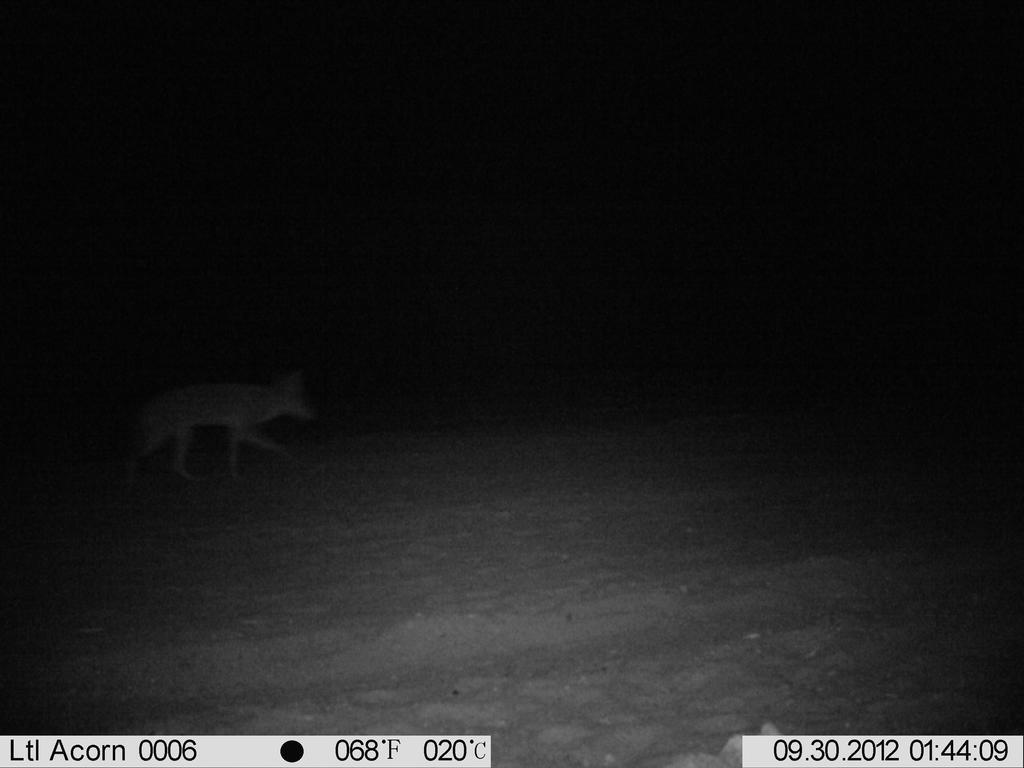coyote: (114, 361, 323, 498)
